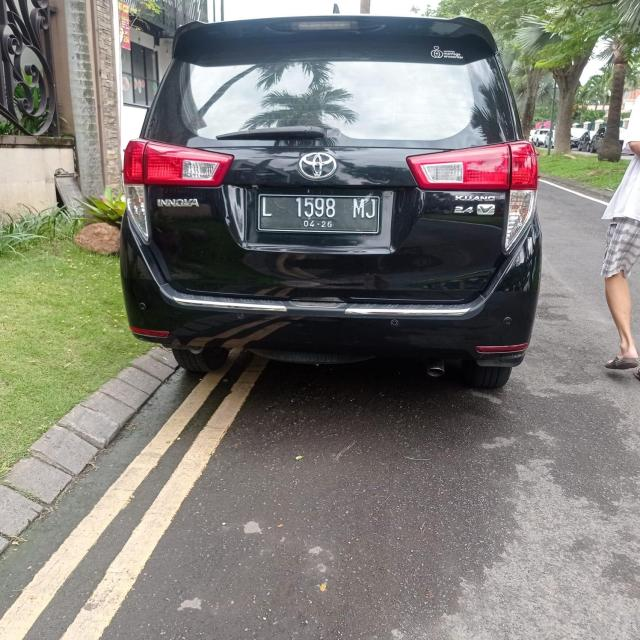license-plate: (258, 196, 380, 234)
